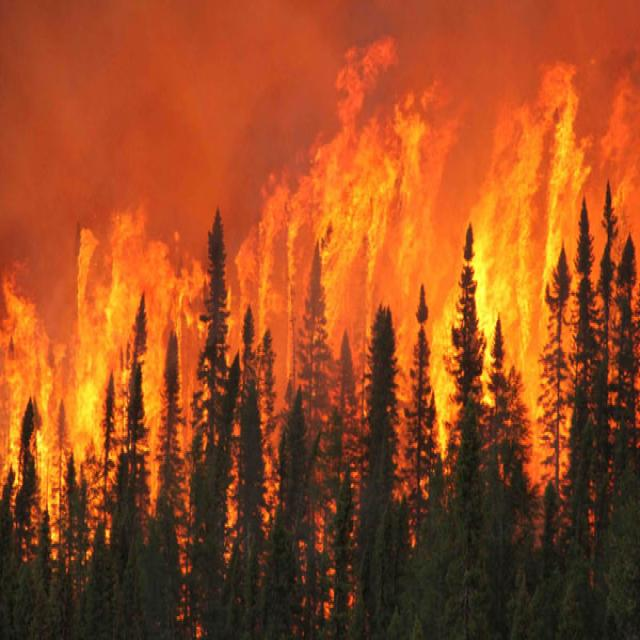Fire: (5, 52, 640, 525)
Smoke: (4, 0, 319, 219)
